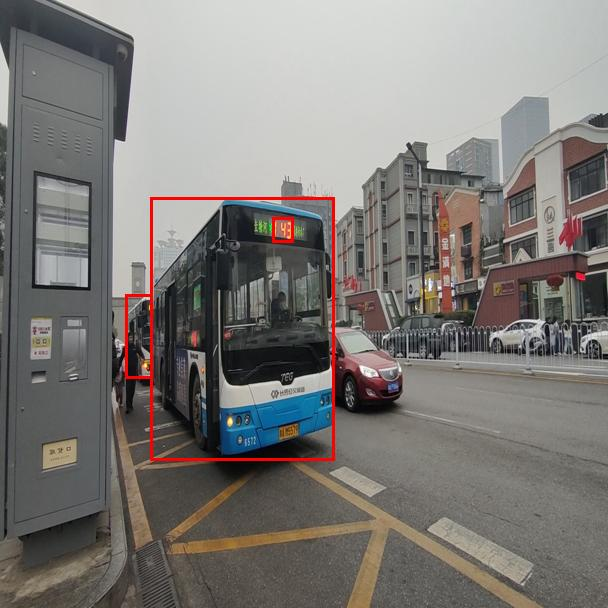bus: (150, 197, 334, 460), (125, 294, 152, 378)
screen: (272, 217, 293, 242)
